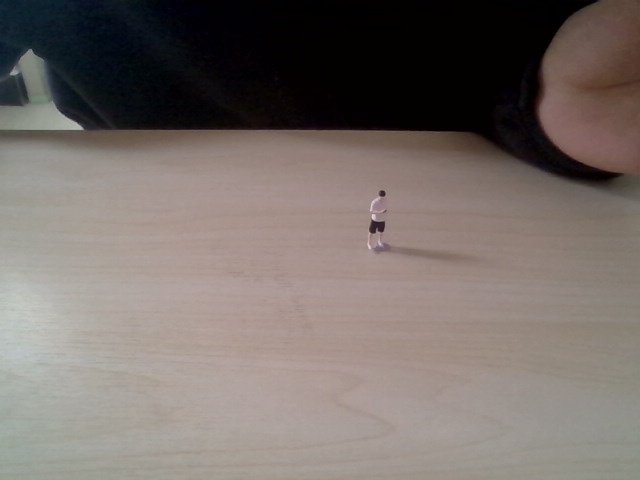walk: (363, 185, 394, 255)
